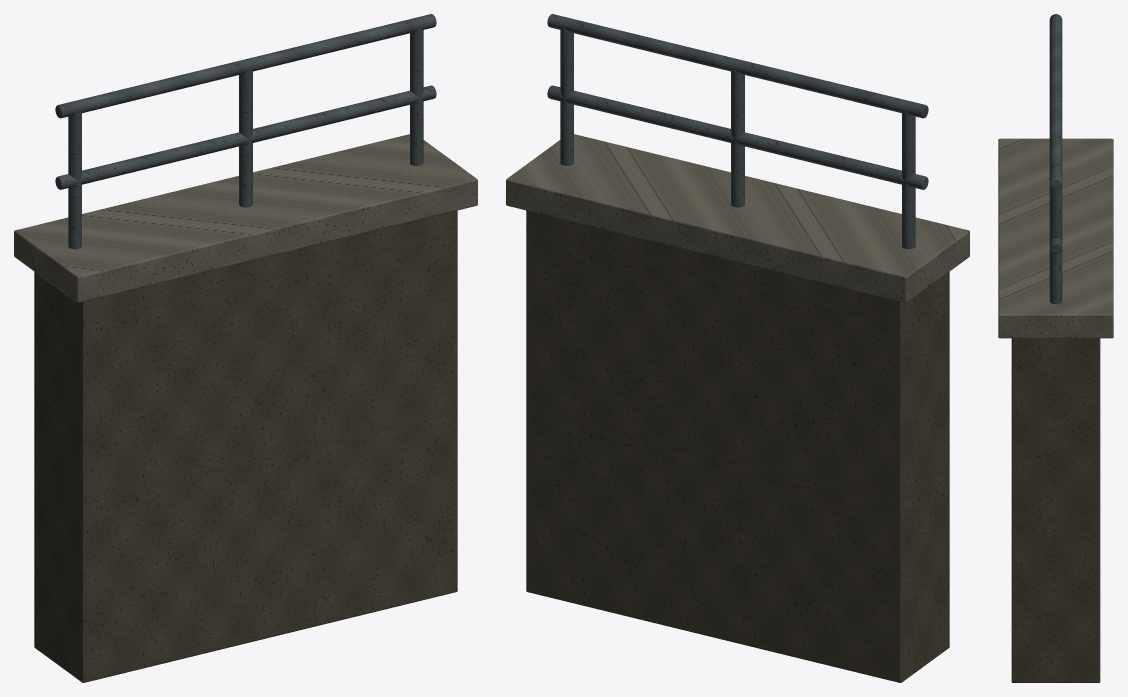
Rendered from PROP-D584DCE55340_lod0.glb.
3 renders of one model, left to right at view 1: azimuth 30°, elevation 25°; view 2: azimuth 150°, elevation 25°; view 3: azimuth 270°, elevation 25°, orthographic. The views are drawn at different scales.
Parts seen in each view (by area): view 1: masonry_support.001, coping.001, railing_rails.001, railing_posts.001; view 2: masonry_support.001, coping.001, railing_rails.001, railing_posts.001; view 3: masonry_support.001, coping.001, railing_rails.001, railing_posts.001.
Part boxes in pixels (box(x1,y1,x2,y2)): masonry_support.001: box(34, 210, 457, 682); coping.001: box(14, 134, 477, 302); railing_rails.001: box(55, 14, 436, 189); railing_posts.001: box(68, 28, 423, 249); masonry_support.001: box(526, 210, 949, 682); coping.001: box(506, 134, 969, 302); railing_rails.001: box(547, 14, 928, 189); railing_posts.001: box(560, 28, 915, 249); masonry_support.001: box(1011, 338, 1100, 682); coping.001: box(998, 138, 1113, 338); railing_rails.001: box(1049, 14, 1062, 253); railing_posts.001: box(1049, 184, 1062, 304).
Bounding box in the file's own units: 2.35 × 3.13 × 0.65.
Materials: 3 (3 with a texture image).
